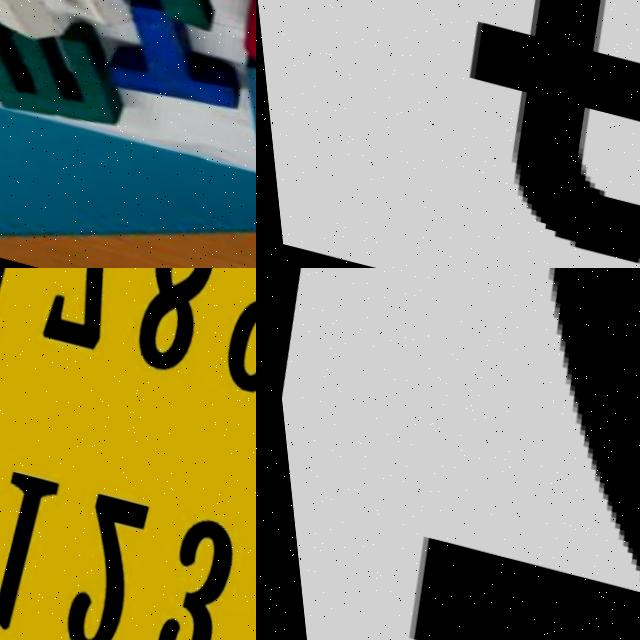1: (0, 433, 78, 640)
2: (5, 466, 169, 640)
3: (117, 500, 251, 640)
4: (203, 516, 256, 640)
7: (347, 268, 640, 640), (8, 268, 156, 379)
8: (101, 268, 242, 398)
9: (188, 268, 256, 421)
F: (383, 0, 640, 268)
M: (0, 5, 118, 134)
P: (212, 54, 256, 180)
T: (82, 0, 249, 121)
